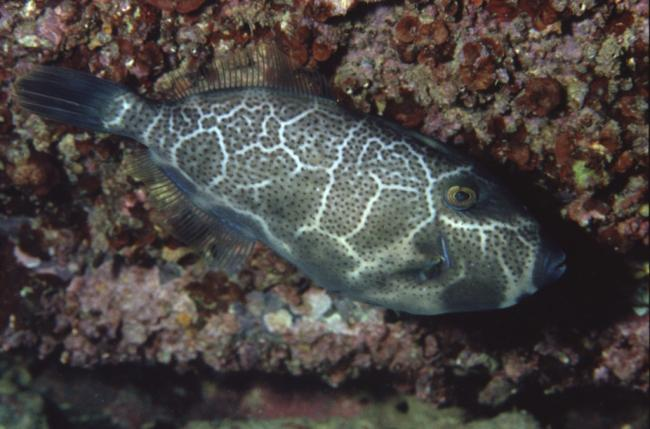fish: (16, 62, 571, 316)
